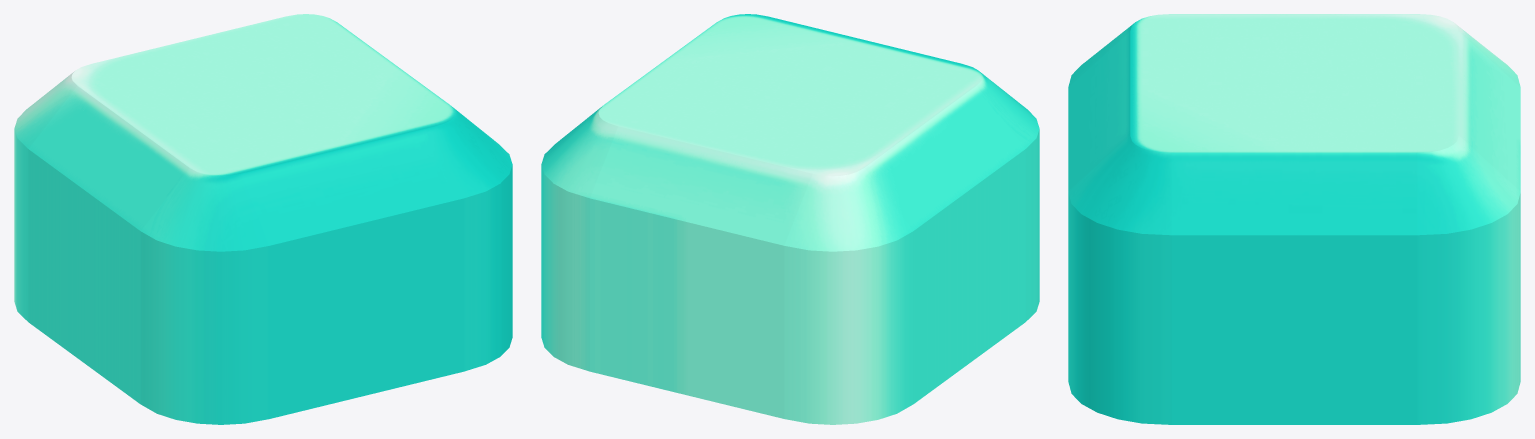
File: Block_1x1_Turquoise.glb
3 renders of one model, left to right at view 1: azimuth 30°, elevation 25°; view 2: azimuth 150°, elevation 25°; view 3: azimuth 270°, elevation 25°, orthographic. The views are drawn at different scales.
Visible parts, largest first — view 1: Edge_Bottom, FrontFace, Edge_Left, Corner_BottomLeft, Corner_BottomRight, Corner_TopLeft; view 2: Edge_Top, FrontFace, Edge_Left, Corner_TopLeft, Corner_TopRight, Corner_BottomLeft; view 3: Edge_Right, FrontFace, Corner_TopRight, Corner_BottomRight, Edge_Top, Edge_Bottom, Corner_TopLeft, Corner_BottomLeft.
Part boxes in pixels (<box>): Edge_Bottom: <box>241,126,463,418</box>; FrontFace: <box>71,14,455,176</box>; Edge_Left: <box>28,86,189,403</box>; Corner_BottomLeft: <box>140,168,269,424</box>; Corner_BottomRight: <box>436,106,512,371</box>; Corner_TopLeft: <box>14,71,77,321</box>; Edge_Top: <box>590,126,812,418</box>; FrontFace: <box>598,14,982,176</box>; Edge_Left: <box>864,86,1025,403</box>; Corner_TopLeft: <box>784,168,913,424</box>; Corner_TopRight: <box>541,106,617,371</box>; Corner_BottomLeft: <box>976,71,1039,321</box>; Edge_Right: <box>1171,153,1417,424</box>; FrontFace: <box>1130,14,1458,152</box>; Corner_TopRight: <box>1417,135,1520,424</box>; Corner_BottomRight: <box>1068,135,1171,424</box>; Edge_Top: <box>1458,32,1520,190</box>; Edge_Bottom: <box>1068,32,1130,190</box>; Corner_TopLeft: <box>1453,22,1520,86</box>; Corner_BottomLeft: <box>1068,22,1135,86</box>.
Size of the model in its own units: 1 by 0.5995 by 1.
1 material, 1 textured.
